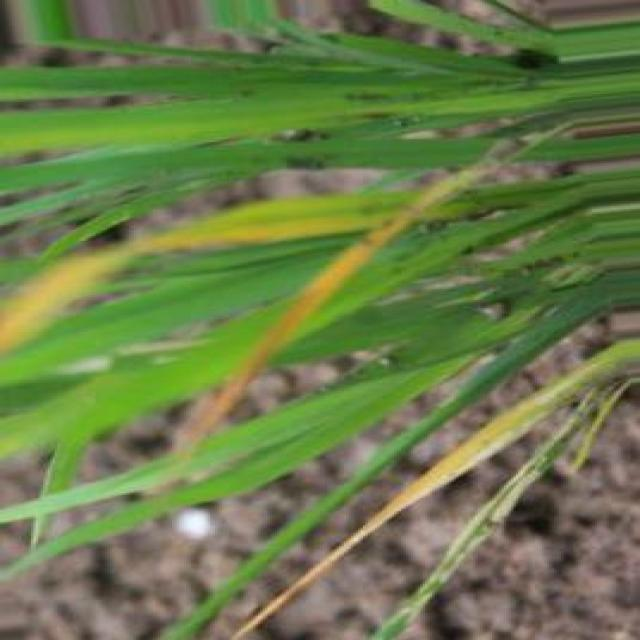Rice Tungro: (230, 339, 640, 639), (174, 162, 496, 452), (0, 192, 417, 353)
